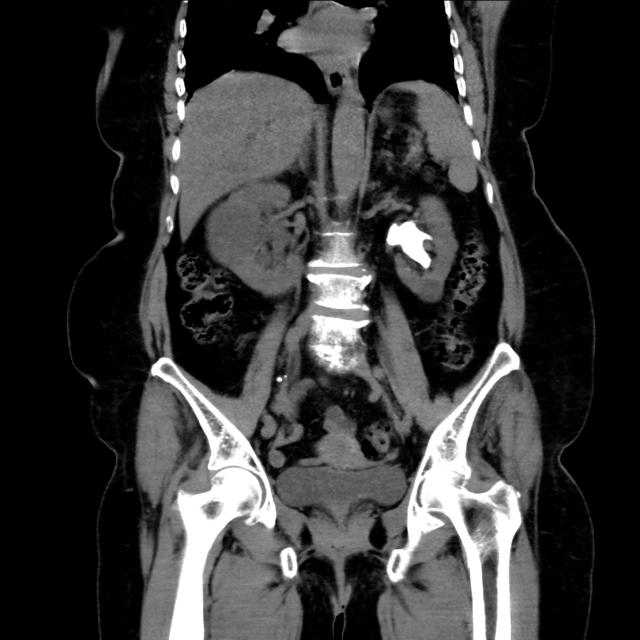kidneystone: (386, 221, 432, 268)
